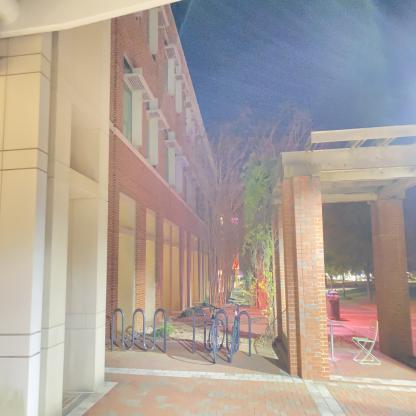eb2: (0, 1, 227, 313)
